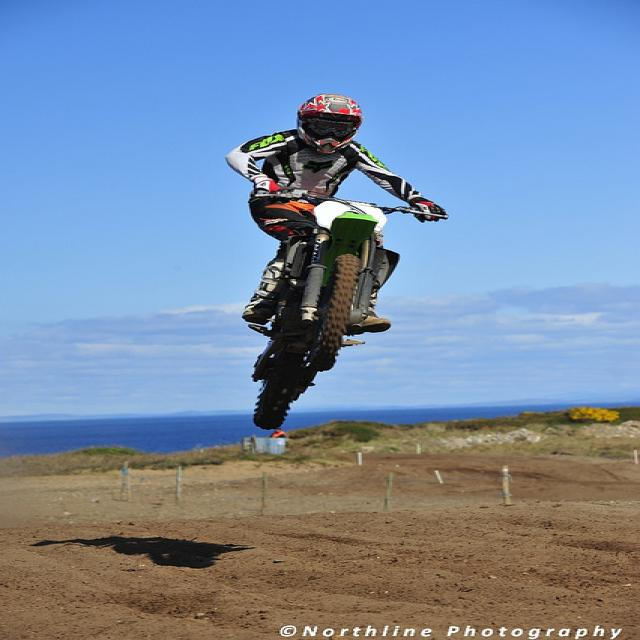motor: (241, 181, 449, 431)
